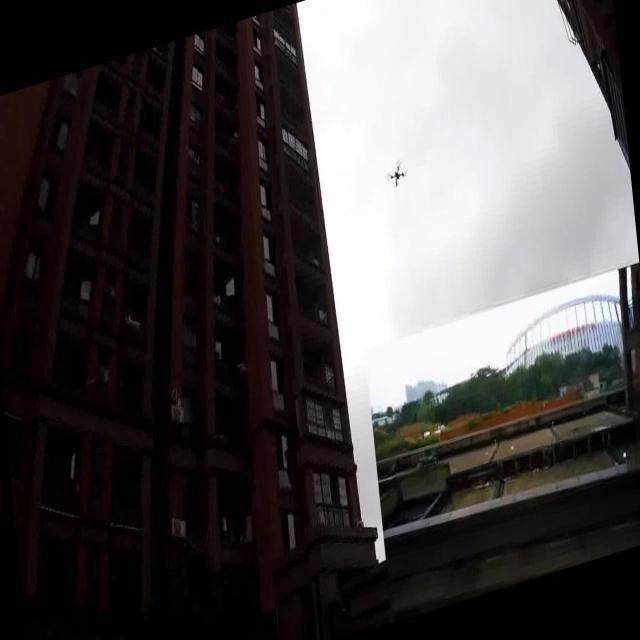drone: (380, 152, 406, 194)
